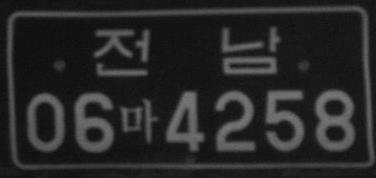0: (26, 91, 66, 153)
2: (214, 88, 257, 152)
4: (164, 90, 206, 152)
5: (263, 88, 307, 152)
6: (72, 90, 116, 152)
8: (313, 88, 356, 152)
마: (118, 98, 159, 144)
전남_D: (93, 24, 281, 78)
